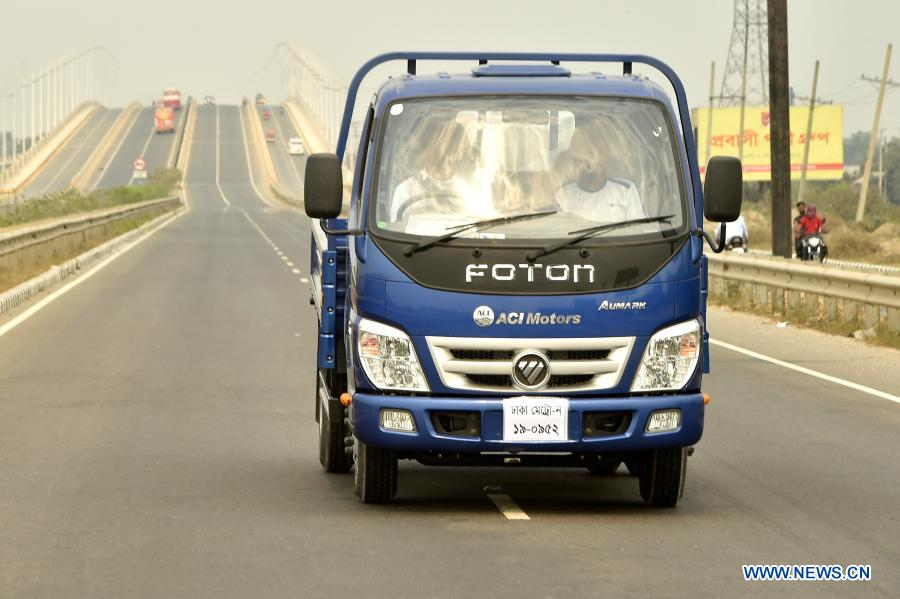motorbike: (298, 46, 747, 514)
